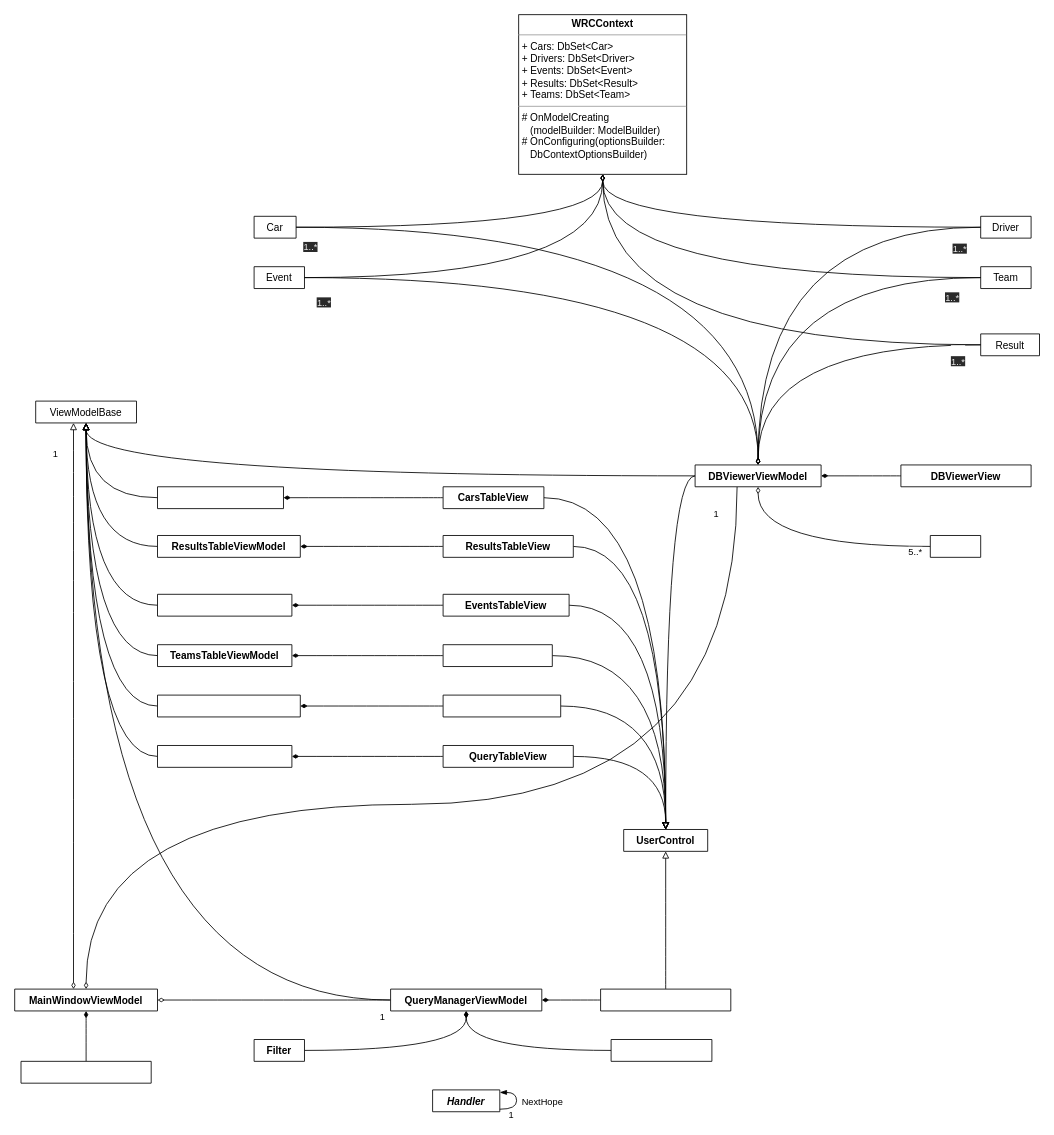
This 1054x1135 diagram has some shape labels left out. Here are the shapes that lost their labels. From the top down, the centre of each, then its label:
point (220, 497): CarsTableViewModel
point (955, 546): Table
point (224, 604): EventsTableViewModel
point (497, 655): TeamsTableView
point (228, 705): DriversTableViewModel
point (501, 705): DriversTableView
point (224, 756): QueryTableViewModel
point (665, 999): QueryManagerView
point (661, 1050): ColumnListItem
point (85, 1071): MainWindow
